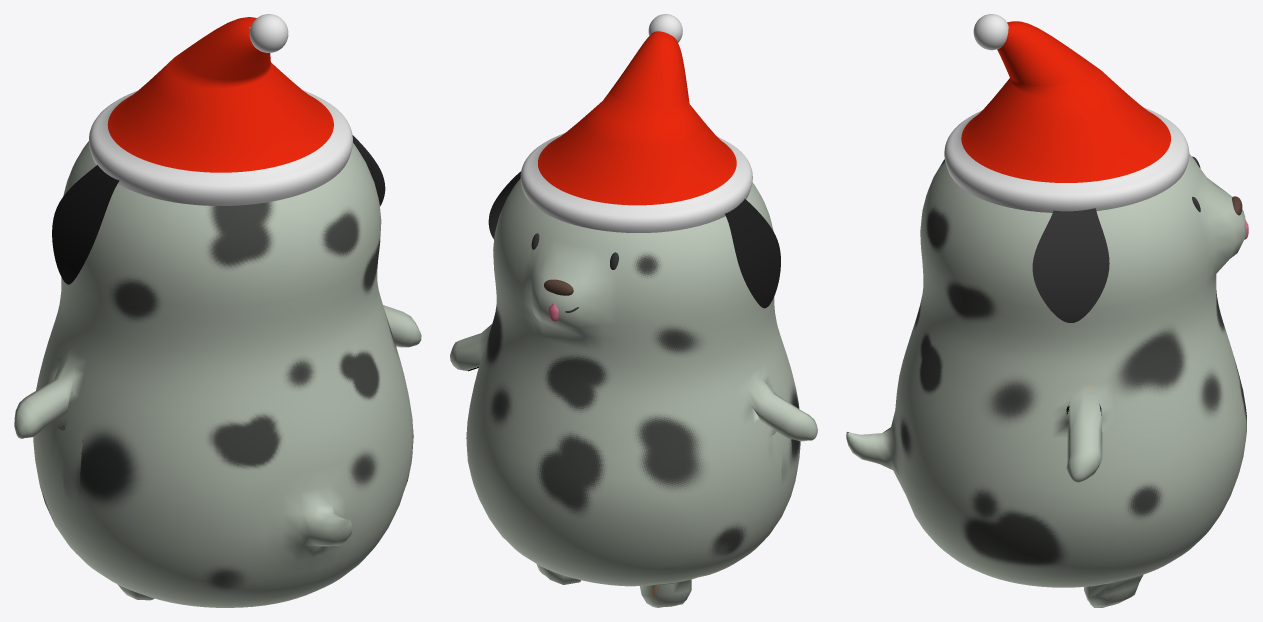
The model's file is spotty.gltf.
3 views of the same model, side by side, from view 1: azimuth 30°, elevation 25°; view 2: azimuth 150°, elevation 25°; view 3: azimuth 270°, elevation 25° (orthographic). The views are drawn at different scales.
Parts seen in each view (by area): view 1: Sphere, Circle, Plane.003, Circle.001, Sphere.001, Plane.002; view 2: Sphere, Circle, Circle.001, Plane.003, Sphere.001, Plane.002; view 3: Sphere, Circle, Plane.002, Circle.001, Sphere.001.
Part boxes in pixels (left/top/right/bottom): Sphere: left=14, top=141, right=421, bottom=607; Circle: left=89, top=48, right=352, bottom=205; Plane.003: left=52, top=165, right=119, bottom=284; Circle.001: left=183, top=17, right=270, bottom=79; Sphere.001: left=249, top=14, right=288, bottom=52; Plane.002: left=352, top=135, right=385, bottom=206; Sphere: left=450, top=178, right=817, bottom=607; Circle: left=520, top=90, right=752, bottom=232; Circle.001: left=610, top=31, right=688, bottom=106; Plane.003: left=725, top=199, right=780, bottom=308; Sphere.001: left=648, top=14, right=682, bottom=42; Plane.002: left=488, top=171, right=520, bottom=239; Sphere: left=846, top=154, right=1246, bottom=607; Circle: left=944, top=58, right=1189, bottom=212; Plane.002: left=1032, top=208, right=1109, bottom=322; Circle.001: left=997, top=21, right=1087, bottom=86; Sphere.001: left=973, top=14, right=1008, bottom=50.
Size of the model in its own units: 0.7786 by 1.11 by 0.7145.
7 materials, 1 textured.
